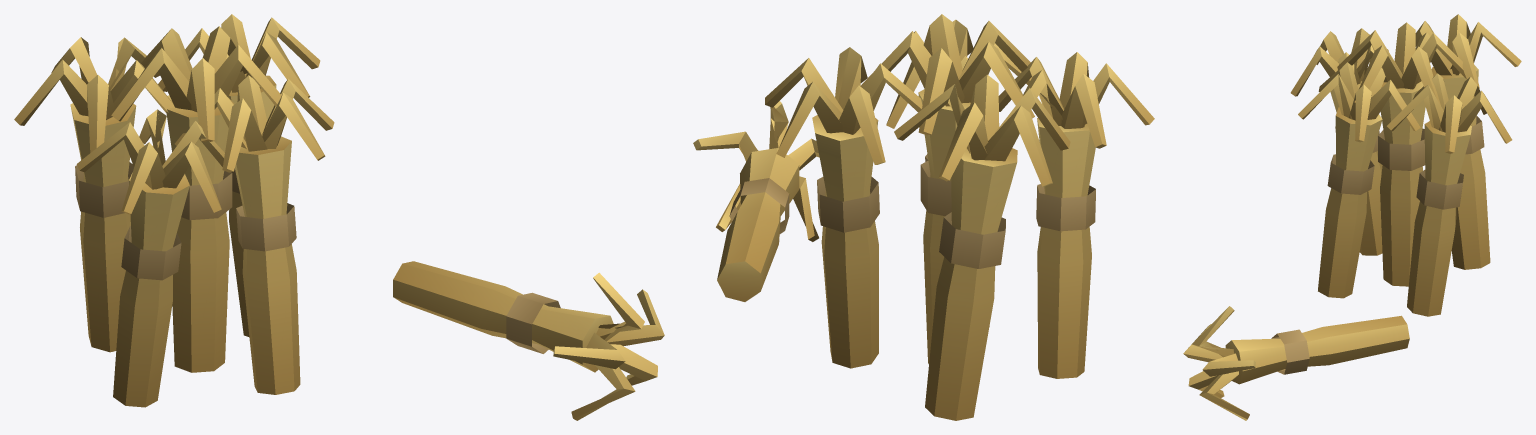
Rendered from market_rice.glb.
3 renders of one model, left to right at view 1: azimuth 30°, elevation 25°; view 2: azimuth 150°, elevation 25°; view 3: azimuth 270°, elevation 25°, orthographic. The views are drawn at different scales.
Parts seen in each view (by area): view 1: market_rice; view 2: market_rice; view 3: market_rice.
Boxes of the visible parts, box(x1,y1,x2,y2) form: market_rice: box(14, 14, 664, 420); market_rice: box(693, 14, 1154, 420); market_rice: box(1183, 14, 1521, 420).
Size of the model in its own units: 1.18 by 0.8203 by 0.9378.
Materials: 1 (1 with a texture image).
